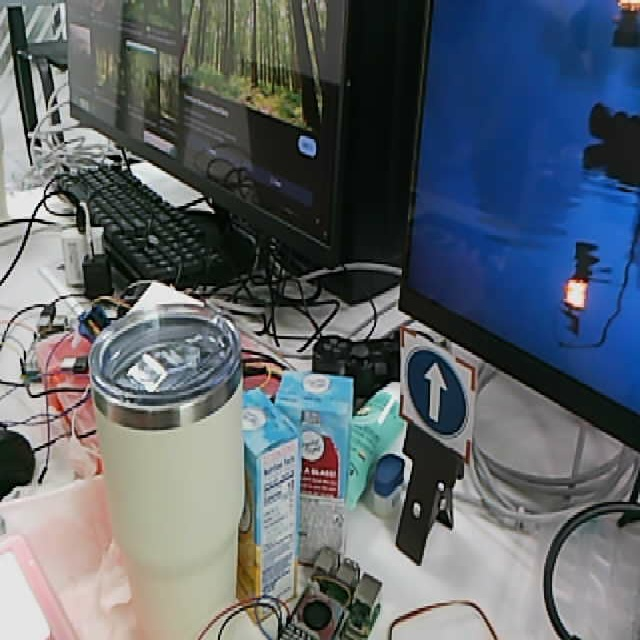straight: (400, 327, 474, 466)
